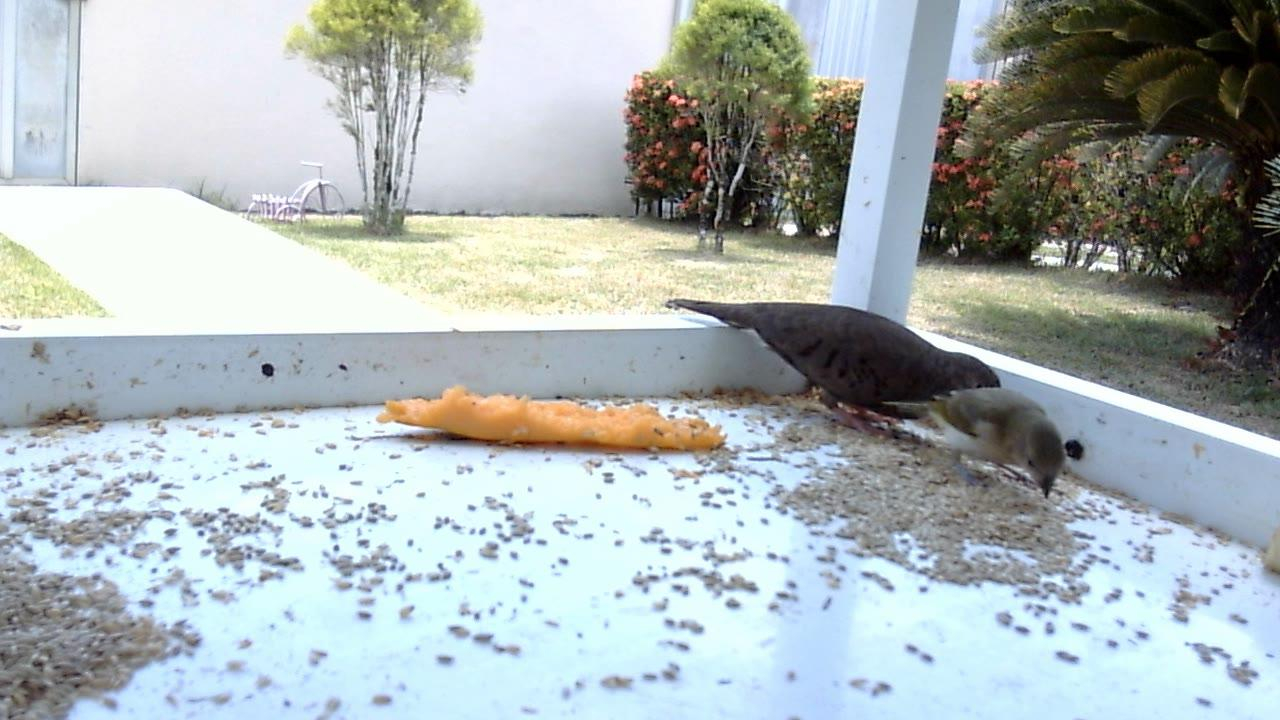canario_do_amazonas: (880, 384, 1066, 502)
rolinha: (665, 295, 1003, 443)
